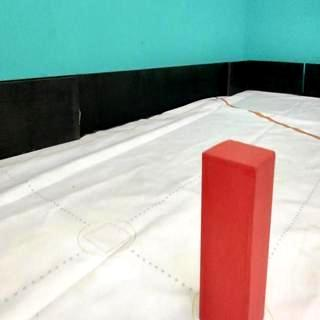redbox: (198, 137, 276, 320)
